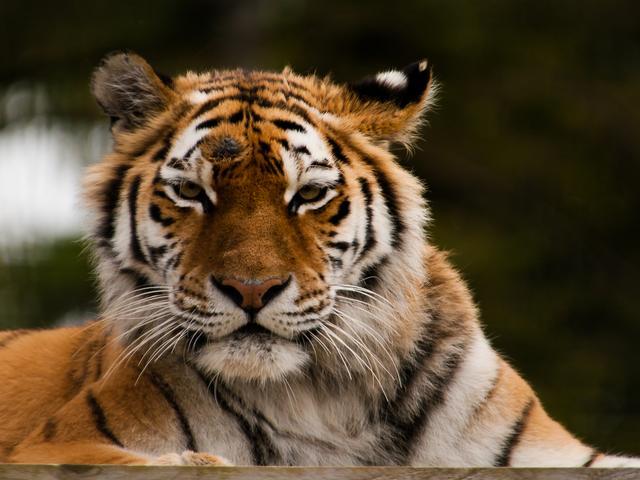tiger: (65, 27, 587, 459)
